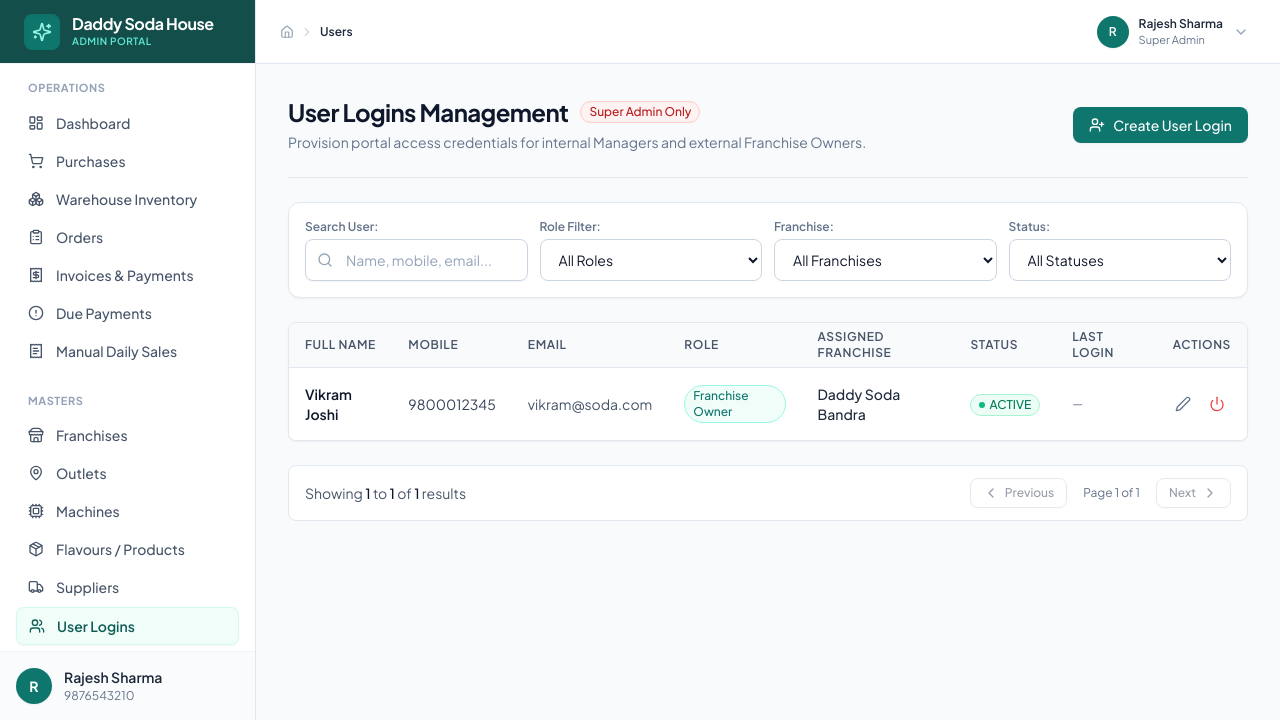
Daddy Soda House Master Data Module › requires franchise selection when user role is FRANCHISE_OWNER
Click the button "Create User Login".
click(1161, 124)  # box [1073, 106, 1248, 142]
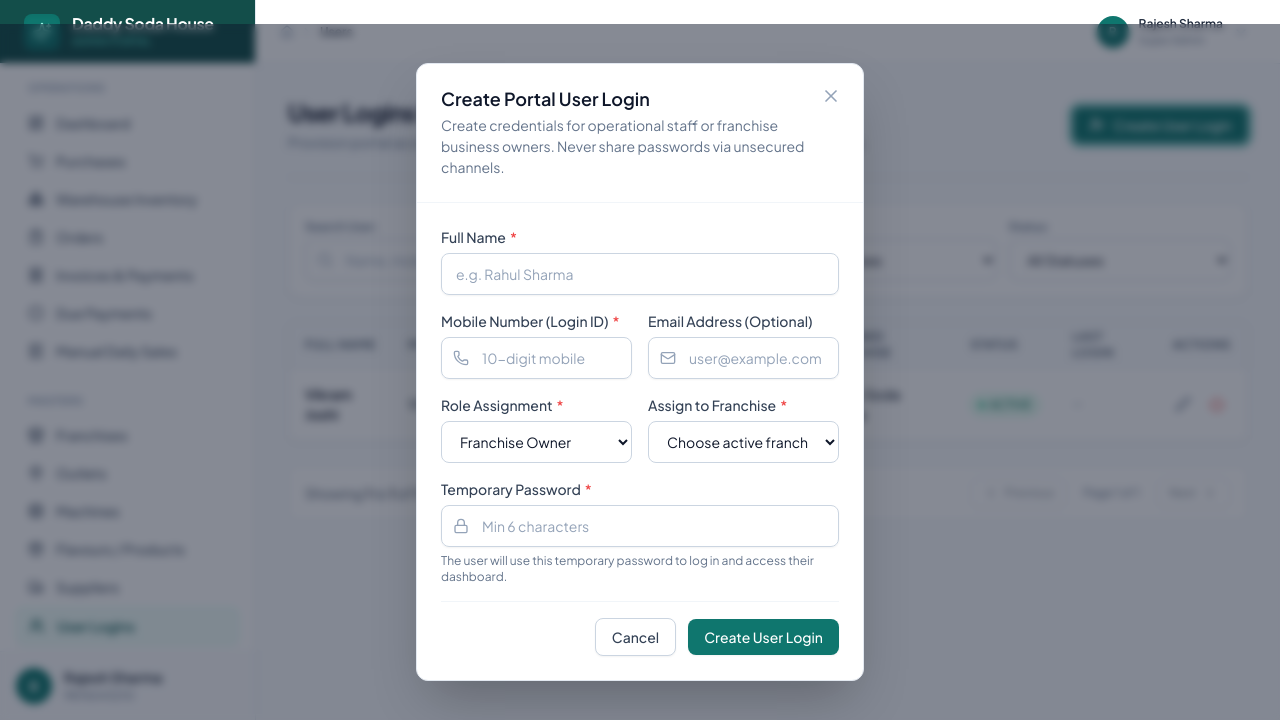
Type "Amit Franchise" into the field labelled "Full Name*".
click(640, 274); type("Amit Franchise")  # box [441, 253, 839, 295]
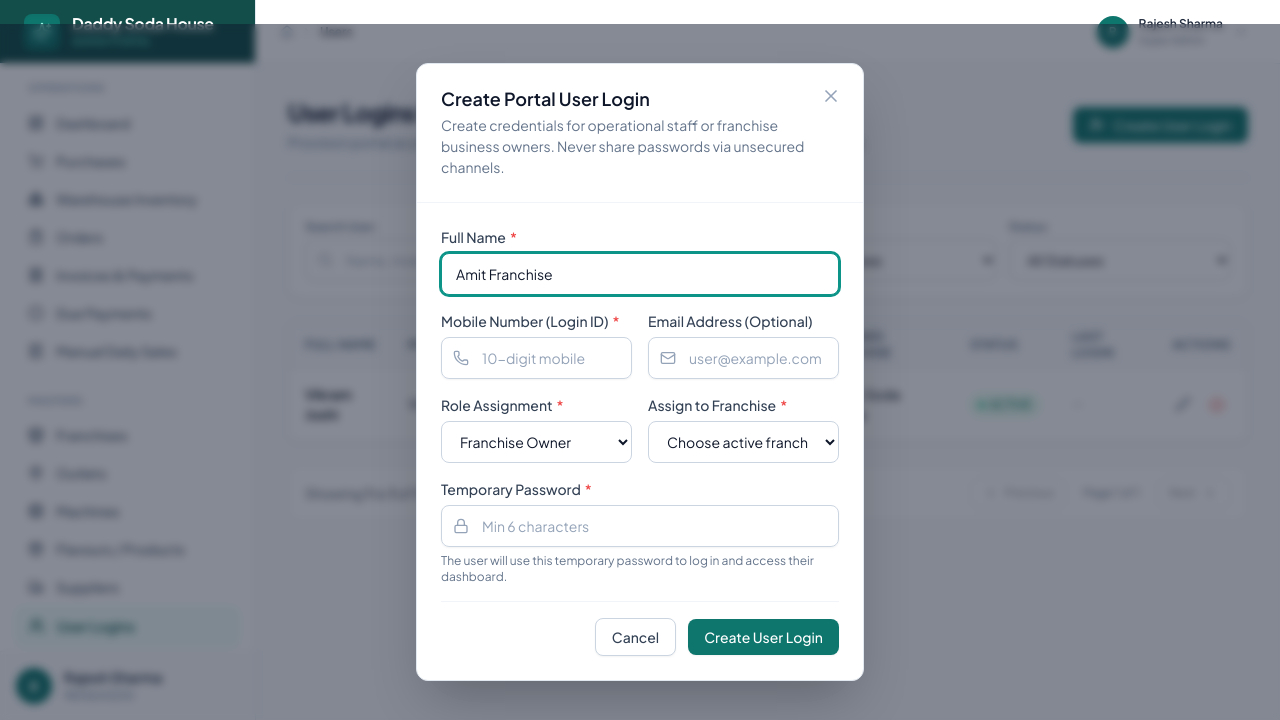
Type "9876543210" into the field labelled "Mobile Number (Login ID)*".
click(536, 358); type("9876543210")  # box [441, 337, 632, 379]
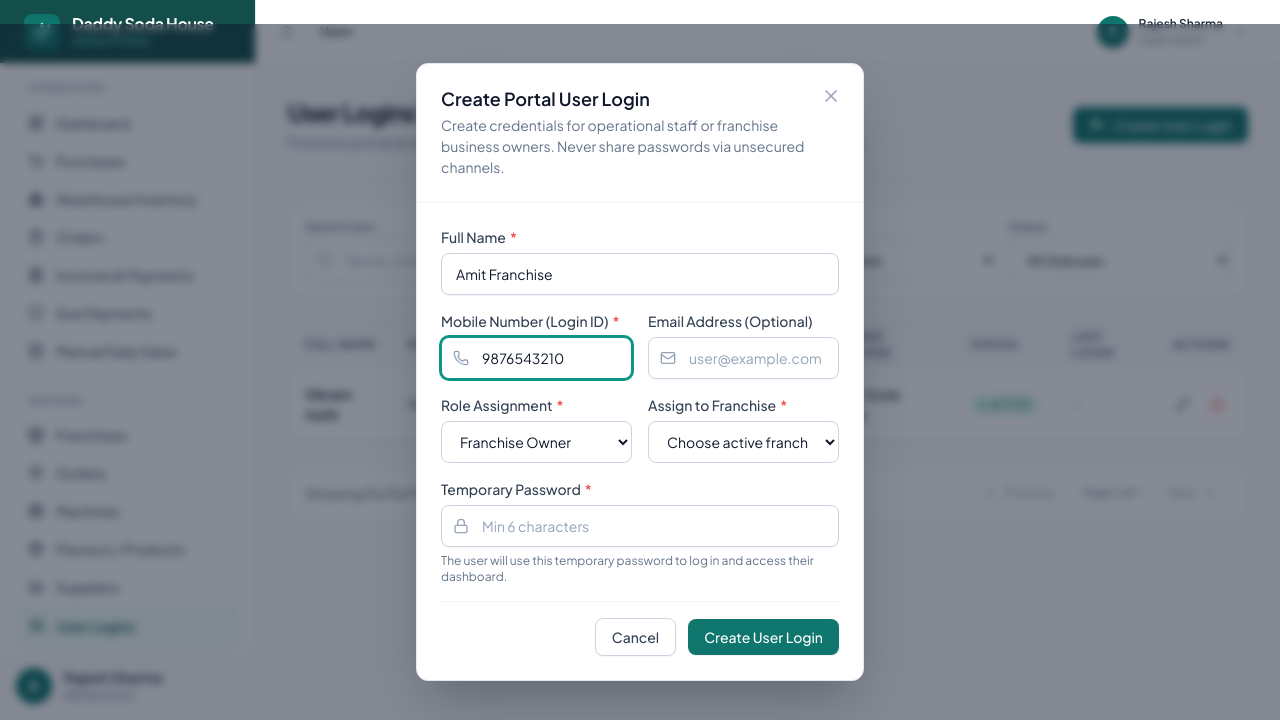
Type "tempPass123" into the password field labelled "Temporary Password*".
click(640, 526); type("tempPass123")  # box [441, 505, 839, 547]
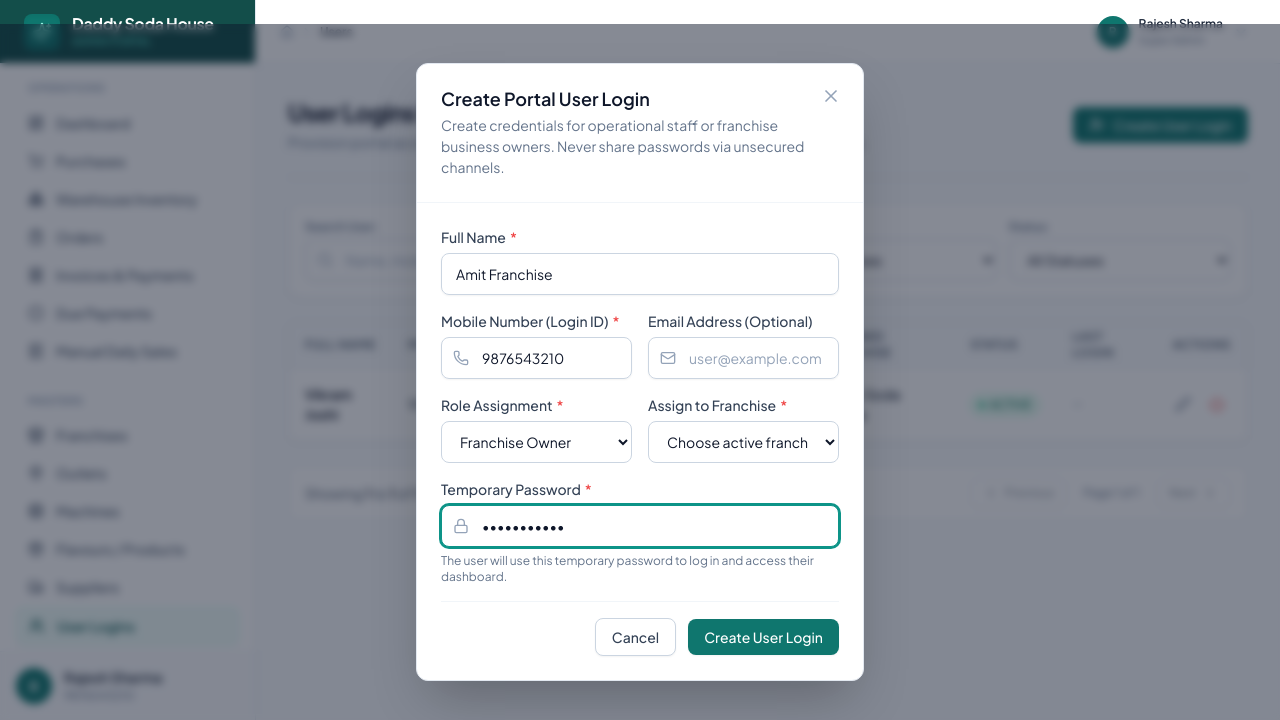
Click the button "Create User Login".
click(764, 637)  # box [688, 619, 839, 655]
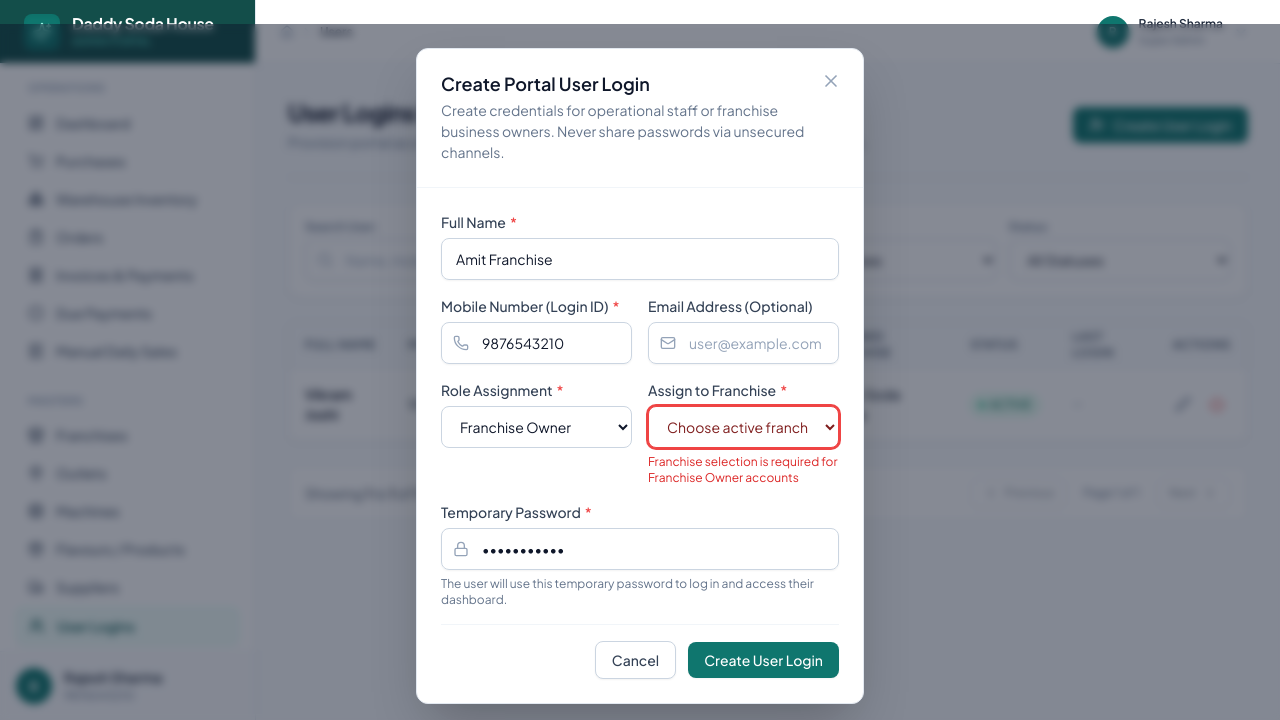
Expected: the text "Franchise selection is required for Franchise Owner accounts" is shown, [648, 454, 839, 486]
